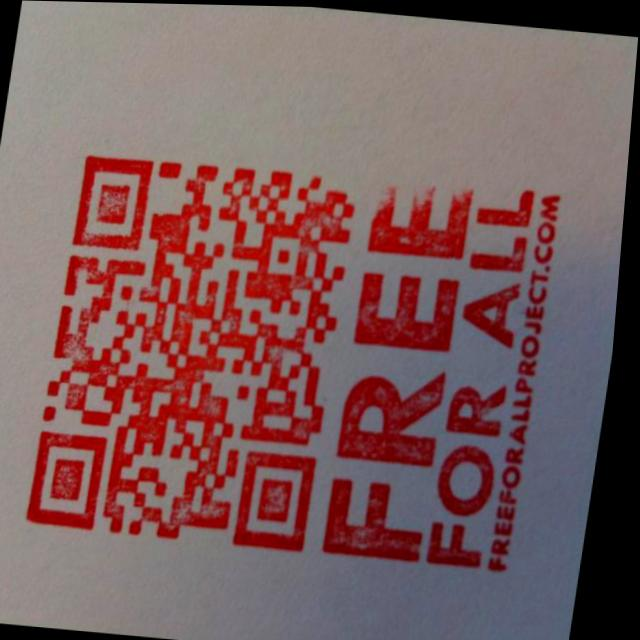qrcode: (35, 154, 364, 550)
